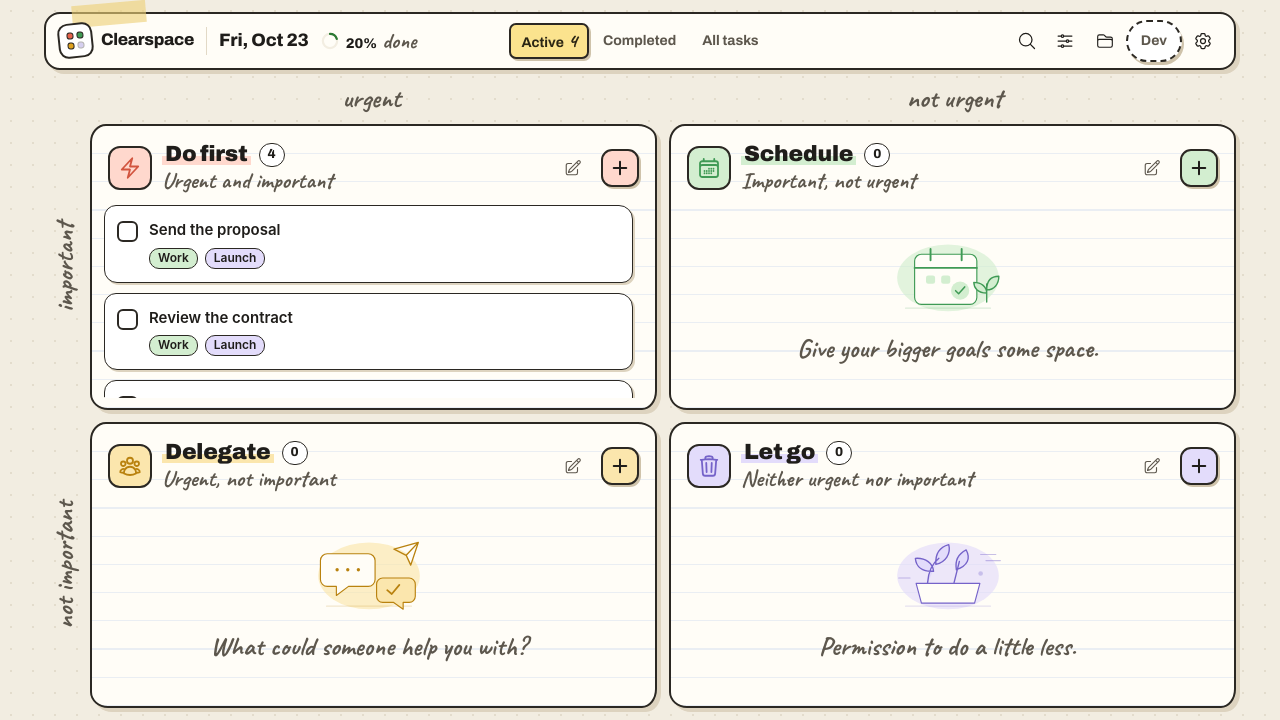
Test: closes the editor when deleting the project that contains the edited task
The width and height of the screenshot is (1280, 720).
Click the button with aria-label "Edit Send the proposal" at (215, 230), box left=149, top=218, right=620, bottom=270
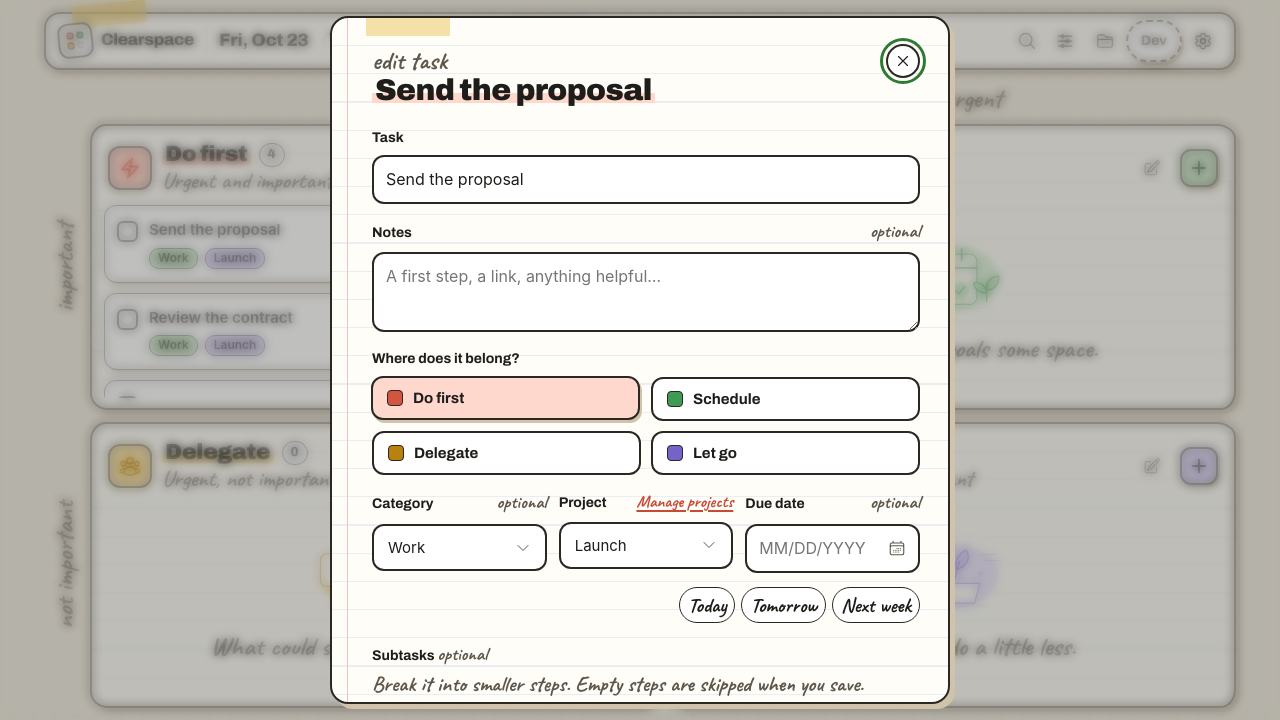
Click the button "Manage projects" at (685, 502), box left=636, top=489, right=733, bottom=515
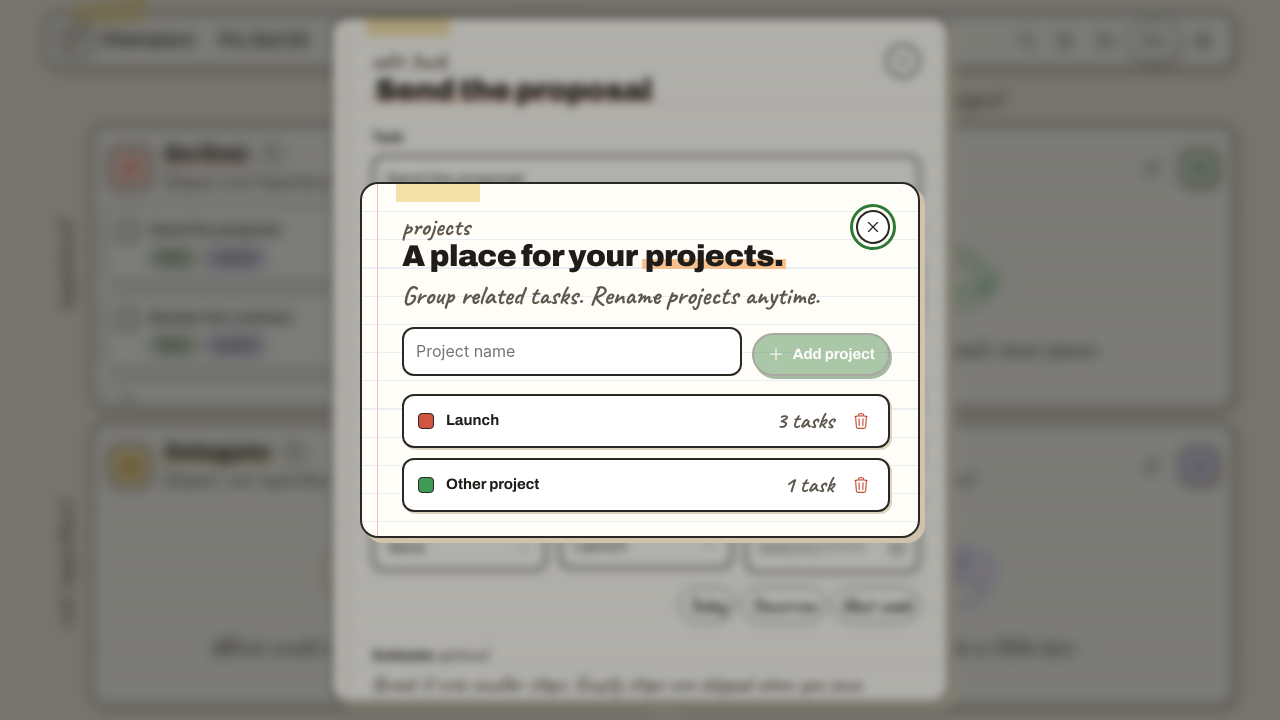
Click the button named "Delete Launch" at (861, 421), box left=842, top=402, right=880, bottom=440
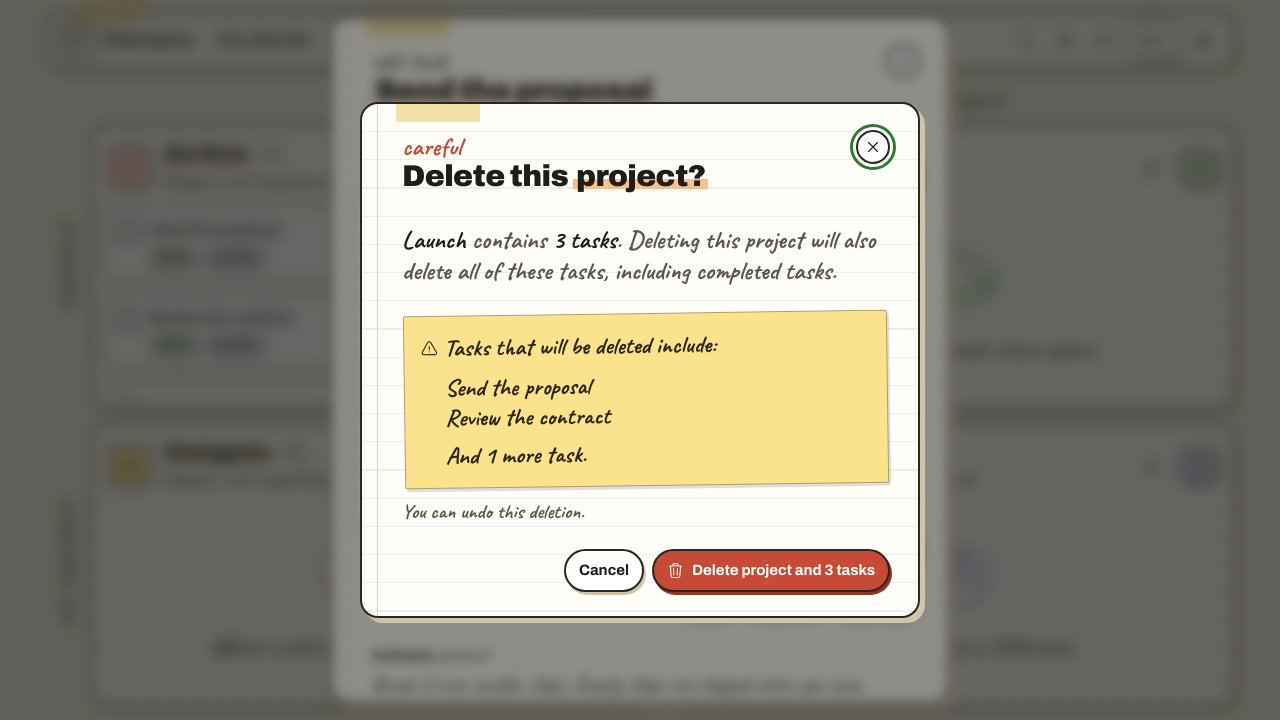
Click the button "Delete project and 3 tasks" at (771, 570), box left=652, top=549, right=890, bottom=592
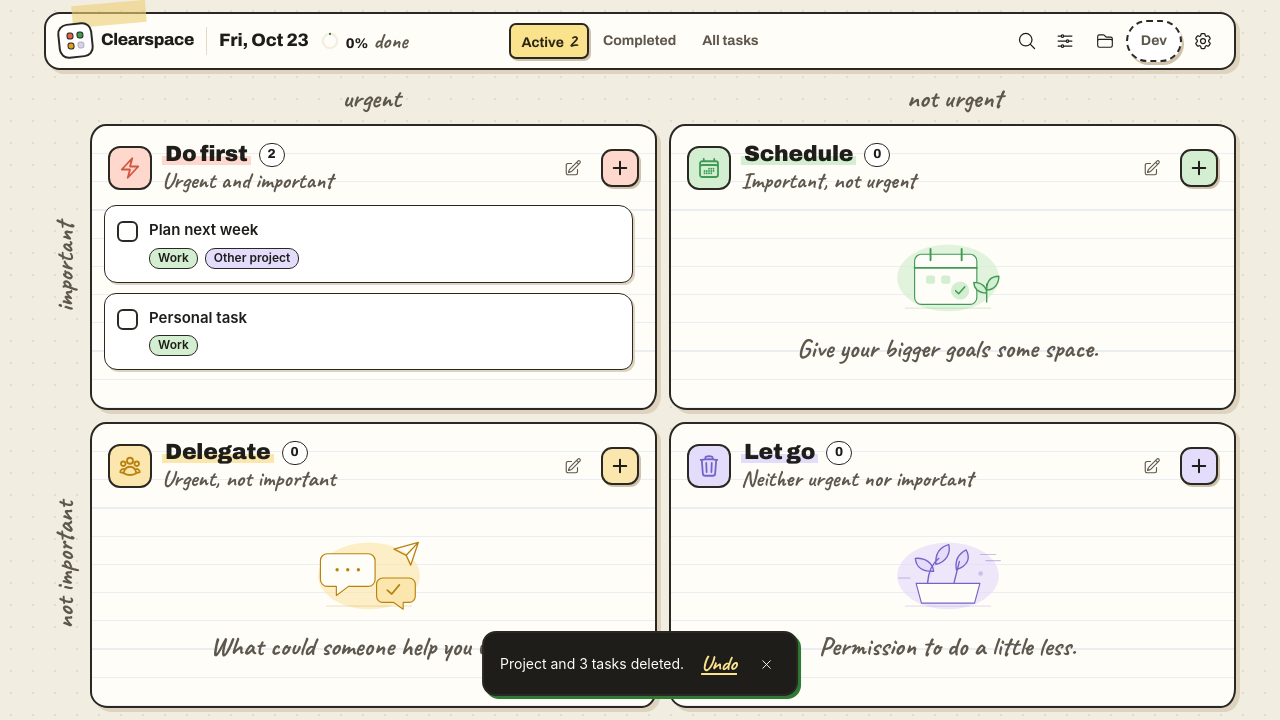
Expected: the dialog is gone
